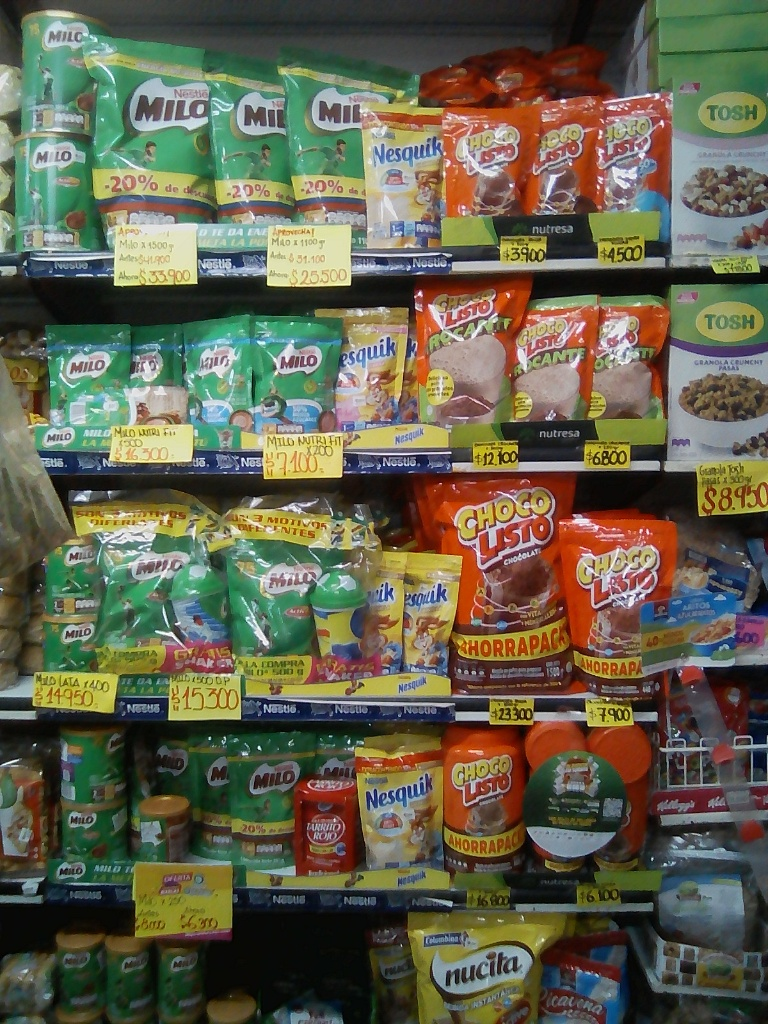COL0170102DYP25000: (514, 290, 594, 418)
COL0170102DYP50000: (413, 282, 512, 421)
COL0170103DYP1,500: (422, 479, 574, 689)
COL0170103DYP44000: (577, 516, 686, 696)
COL0170103TRR00100: (448, 724, 528, 871)
COL0170103TRR30000: (534, 728, 591, 882)
COL0170104DYP20000: (601, 105, 671, 210)
COL0170203DYP25000: (193, 728, 235, 856)
COL0170203DYP50000: (99, 515, 190, 677)
COL0170203LAT20000: (139, 786, 192, 862)
COL0170203LAT40000: (40, 524, 102, 613)
COL0170205DYP20000: (49, 323, 130, 424)
COL0170305DYP20000: (309, 306, 403, 436)
COL0170306DYP20000: (407, 549, 463, 681)
